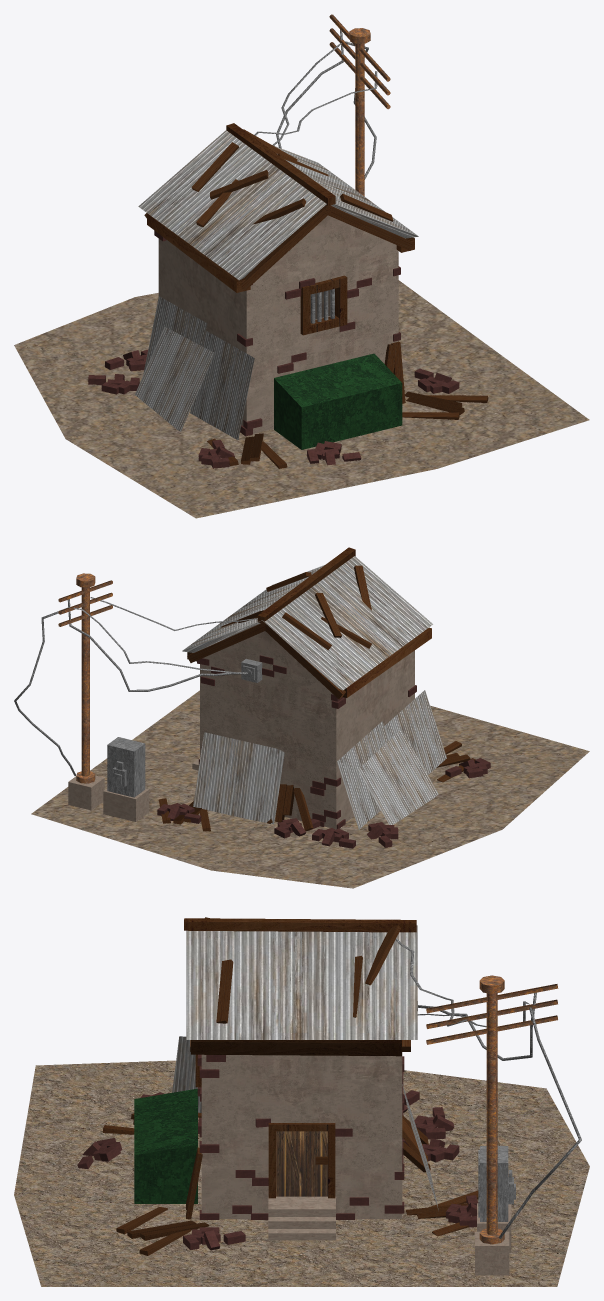
File: abandoned_house_low_poly.glb
3 views of the same model, one above another, from view 1: azimuth 30°, elevation 25°; view 2: azimuth 150°, elevation 25°; view 3: azimuth 270°, elevation 25° (orthographic). The views are drawn at different scales.
Visible parts, largest first — view 1: Object_3, Object_5, Object_6, Object_9, Object_8, Object_7, Object_4, Object_10, Object_13; view 2: Object_3, Object_5, Object_8, Object_6, Object_9, Object_4, Object_10, Object_12, Object_13; view 3: Object_3, Object_5, Object_6, Object_9, Object_4, Object_7, Object_10, Object_2, Object_13, Object_12, Object_8.
Part boxes in pixels (x1,y1,x2,y2): Object_3: (14,280,589,518); Object_5: (158,215,407,433); Object_6: (138,130,418,280); Object_9: (144,123,488,468); Object_8: (135,296,254,439); Object_7: (274,353,402,449); Object_4: (88,230,459,468); Object_10: (329,14,390,196); Object_13: (254,29,377,179); Object_3: (31,690,589,888); Object_5: (68,631,414,829); Object_8: (193,690,446,829); Object_6: (182,556,432,690); Object_9: (158,547,475,831); Object_4: (157,655,490,848); Object_10: (58,573,112,783); Object_12: (107,658,262,797); Object_13: (14,597,283,775); Object_3: (14,1060,589,1286); Object_5: (201,1052,511,1275); Object_6: (186,925,417,1039); Object_9: (103,917,478,1255); Object_4: (77,1054,478,1250); Object_7: (134,1088,197,1203); Object_10: (426,975,558,1244); Object_2: (276,1131,327,1196); Object_13: (395,938,581,1238); Object_12: (417,1001,515,1221); Object_8: (172,1036,438,1210).
Bounding box in the file's own units: 12.16 × 7.09 × 12.45.
Materials: 12 (12 with a texture image).
